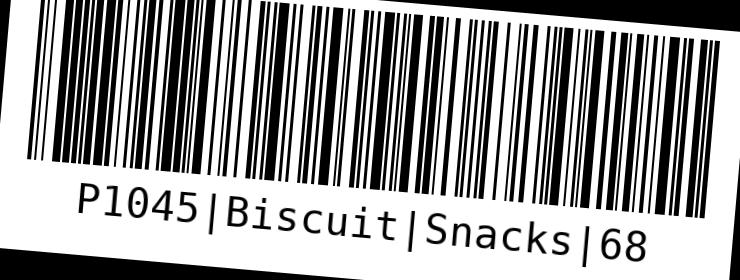milk: (13, 0, 735, 279)
